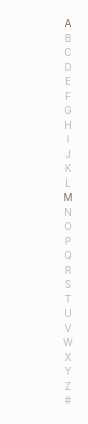
AlphabetStrip › drag interaction › floating indicator appears during drag
Press the mouse on the navigation bar with test id "alphabet-strip" at (68, 212), box [60,16,76,408]
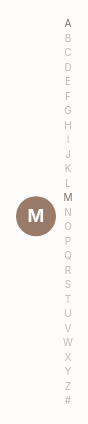
expect the text "M" is shown: met, box [16,196,56,236]
expect the text with test id "alphabet-float-indicator" reads "M": met, box [28,205,44,226]
